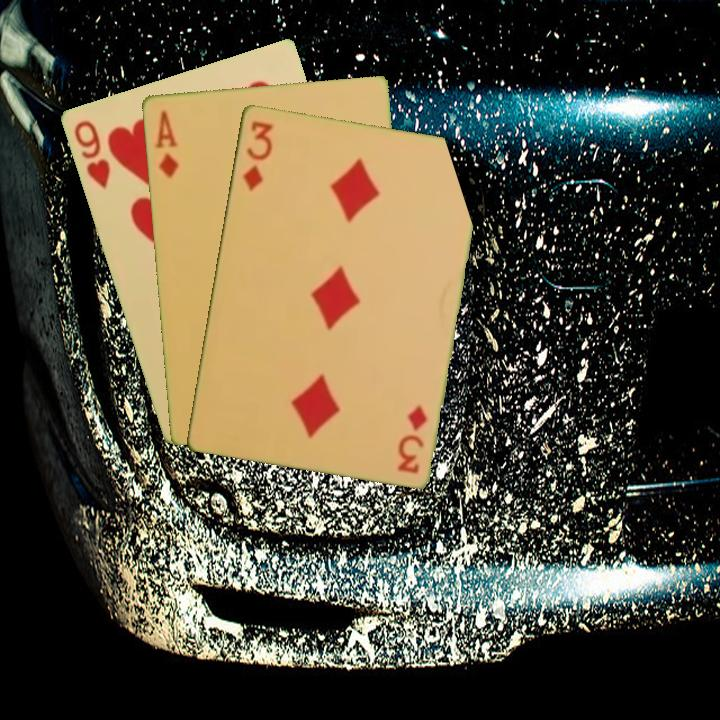3d: (239, 116, 275, 194), (393, 401, 429, 476)
9h: (70, 116, 113, 193)
Ad: (151, 106, 181, 180)
